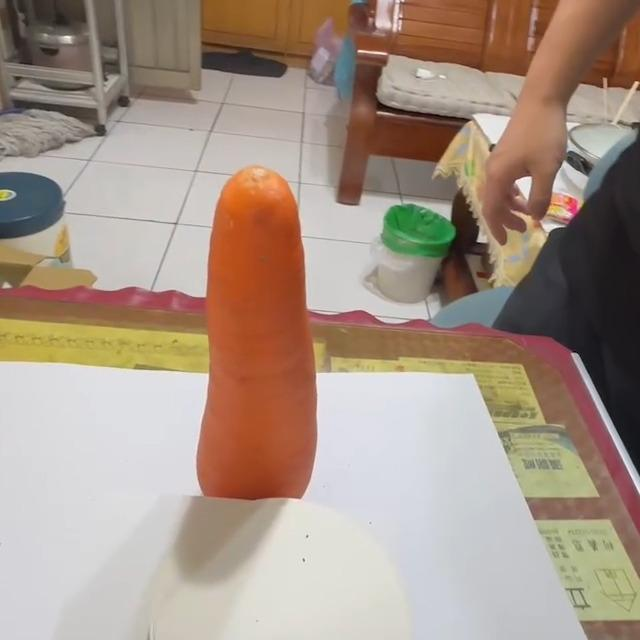carrot: (197, 165, 315, 515)
